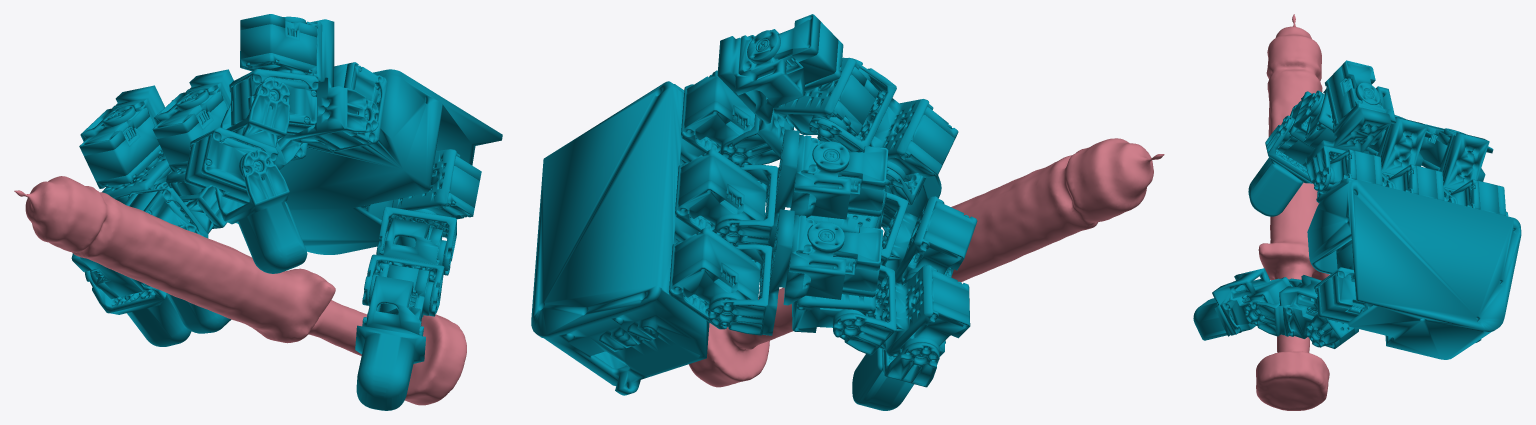
3 renders of one model, left to right at view 1: azimuth 30°, elevation 25°; view 2: azimuth 150°, elevation 25°; view 3: azimuth 270°, elevation 25°, orthographic. The views are drawn at different scales.
Parts seen in each view (by area): view 1: world; view 2: world; view 3: world.
Boxes of the visible parts, bbox=[...] form: world: bbox=[14, 14, 502, 410]; world: bbox=[531, 14, 1164, 410]; world: bbox=[1193, 14, 1521, 410].
Bounding box in the file's own units: 0.2875 × 0.2022 × 0.1954.
